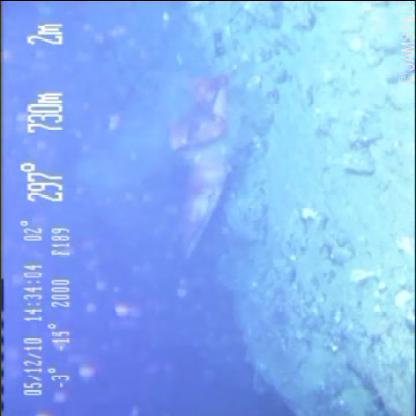Bio: (160, 69, 238, 266)
